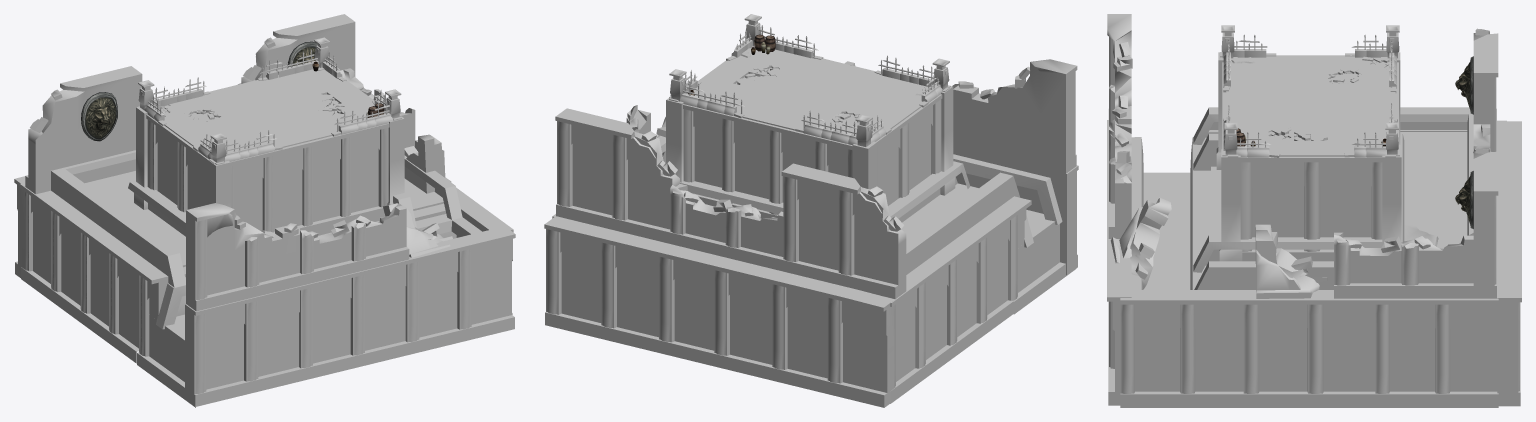
File: Cell4.fbx
3 renders of one model, left to right at view 1: azimuth 30°, elevation 25°; view 2: azimuth 150°, elevation 25°; view 3: azimuth 270°, elevation 25°, orthographic. The views are drawn at different scales.
Parts seen in each view (by area): view 1: Cell4; view 2: Cell4; view 3: Cell4.
Part boxes in pixels (box(x1,y1,x2,y2)): Cell4: box(14, 14, 515, 407); Cell4: box(544, 14, 1078, 407); Cell4: box(1107, 14, 1521, 407).
Size of the model in its own units: 32.93 by 20.9 by 32.16.
